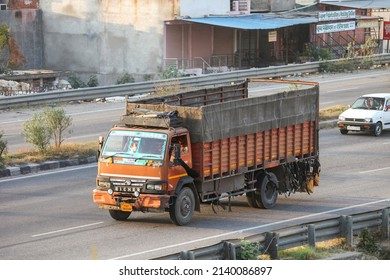car: (336, 93, 390, 137)
truck: (92, 76, 321, 227)
